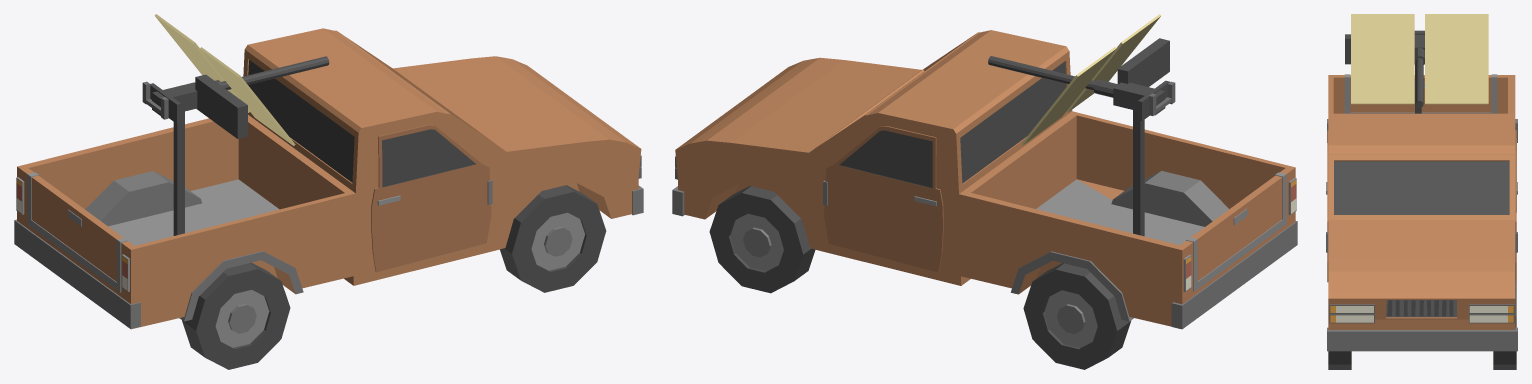
Rendered from kar22.fbx.
3 renders of one model, left to right at view 1: azimuth 30°, elevation 25°; view 2: azimuth 150°, elevation 25°; view 3: azimuth 270°, elevation 25°, orthographic. The views are drawn at different scales.
Parts seen in each view (by area): view 1: Boole, Cylinder_4, Cylinder_3, Cylinder_2; view 2: Boole, Cylinder_4, Cylinder, Cylinder_1; view 3: Boole, Cylinder_4, Cylinder, Cylinder_3.
Part boxes in pixels (bbox=[...]): Boole: bbox=[14, 28, 643, 329]; Cylinder_4: bbox=[142, 14, 329, 235]; Cylinder_3: bbox=[500, 185, 606, 292]; Cylinder_2: bbox=[182, 262, 290, 369]; Boole: bbox=[672, 30, 1297, 329]; Cylinder_4: bbox=[988, 14, 1175, 236]; Cylinder: bbox=[709, 186, 815, 293]; Cylinder_1: bbox=[1023, 263, 1131, 369]; Boole: bbox=[1326, 74, 1517, 351]; Cylinder_4: bbox=[1345, 14, 1488, 113]; Cylinder: bbox=[1493, 281, 1516, 369]; Cylinder_3: bbox=[1328, 351, 1351, 369].
Bounding box in the file's own units: 521 × 269 × 205.
